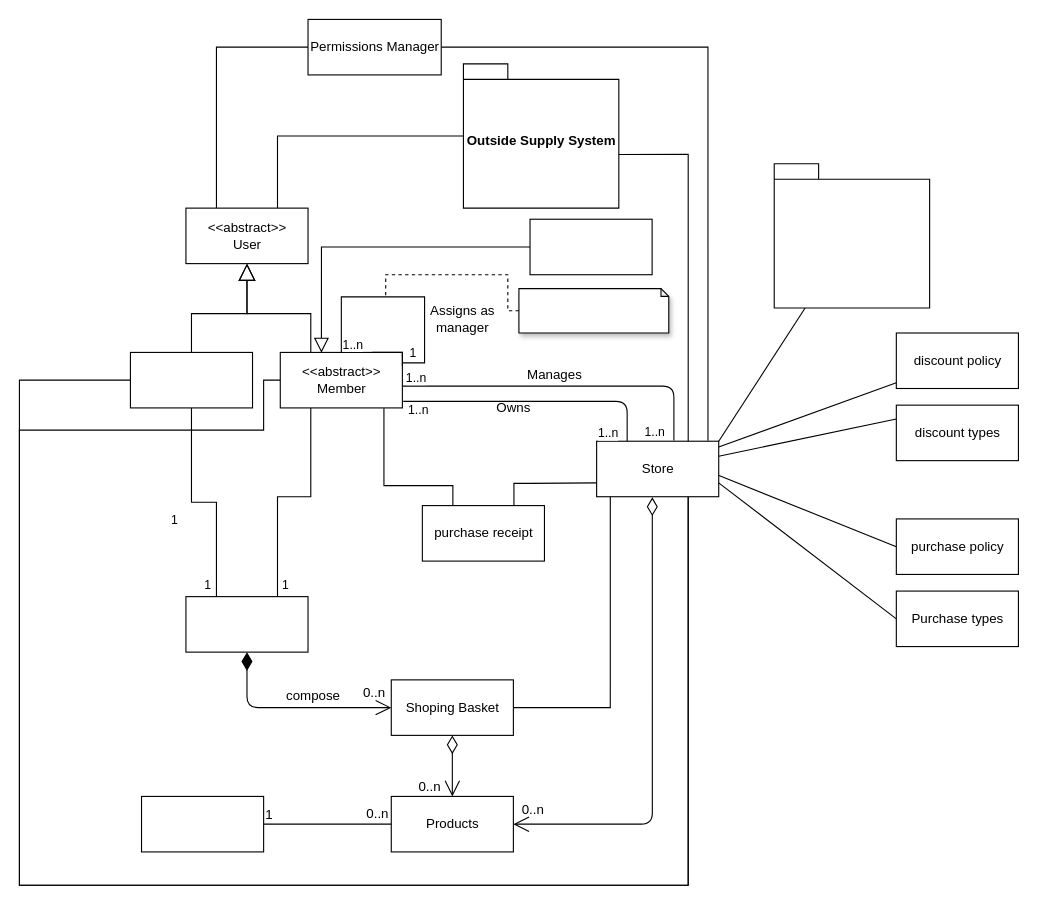
This 1038x906 diagram has some shape labels left out. The shapes that lost their labels are listed below. From the top down, each one's centre as x and y in pixels, then its label:
point (590, 246): Admin
point (851, 235): Outside Paymet System
point (594, 312): manager/owner cannot change permissions or unassign its assigning manager/owner
point (191, 379): Guest
point (246, 624): Shoping Cart
point (202, 823): ProductInfo
